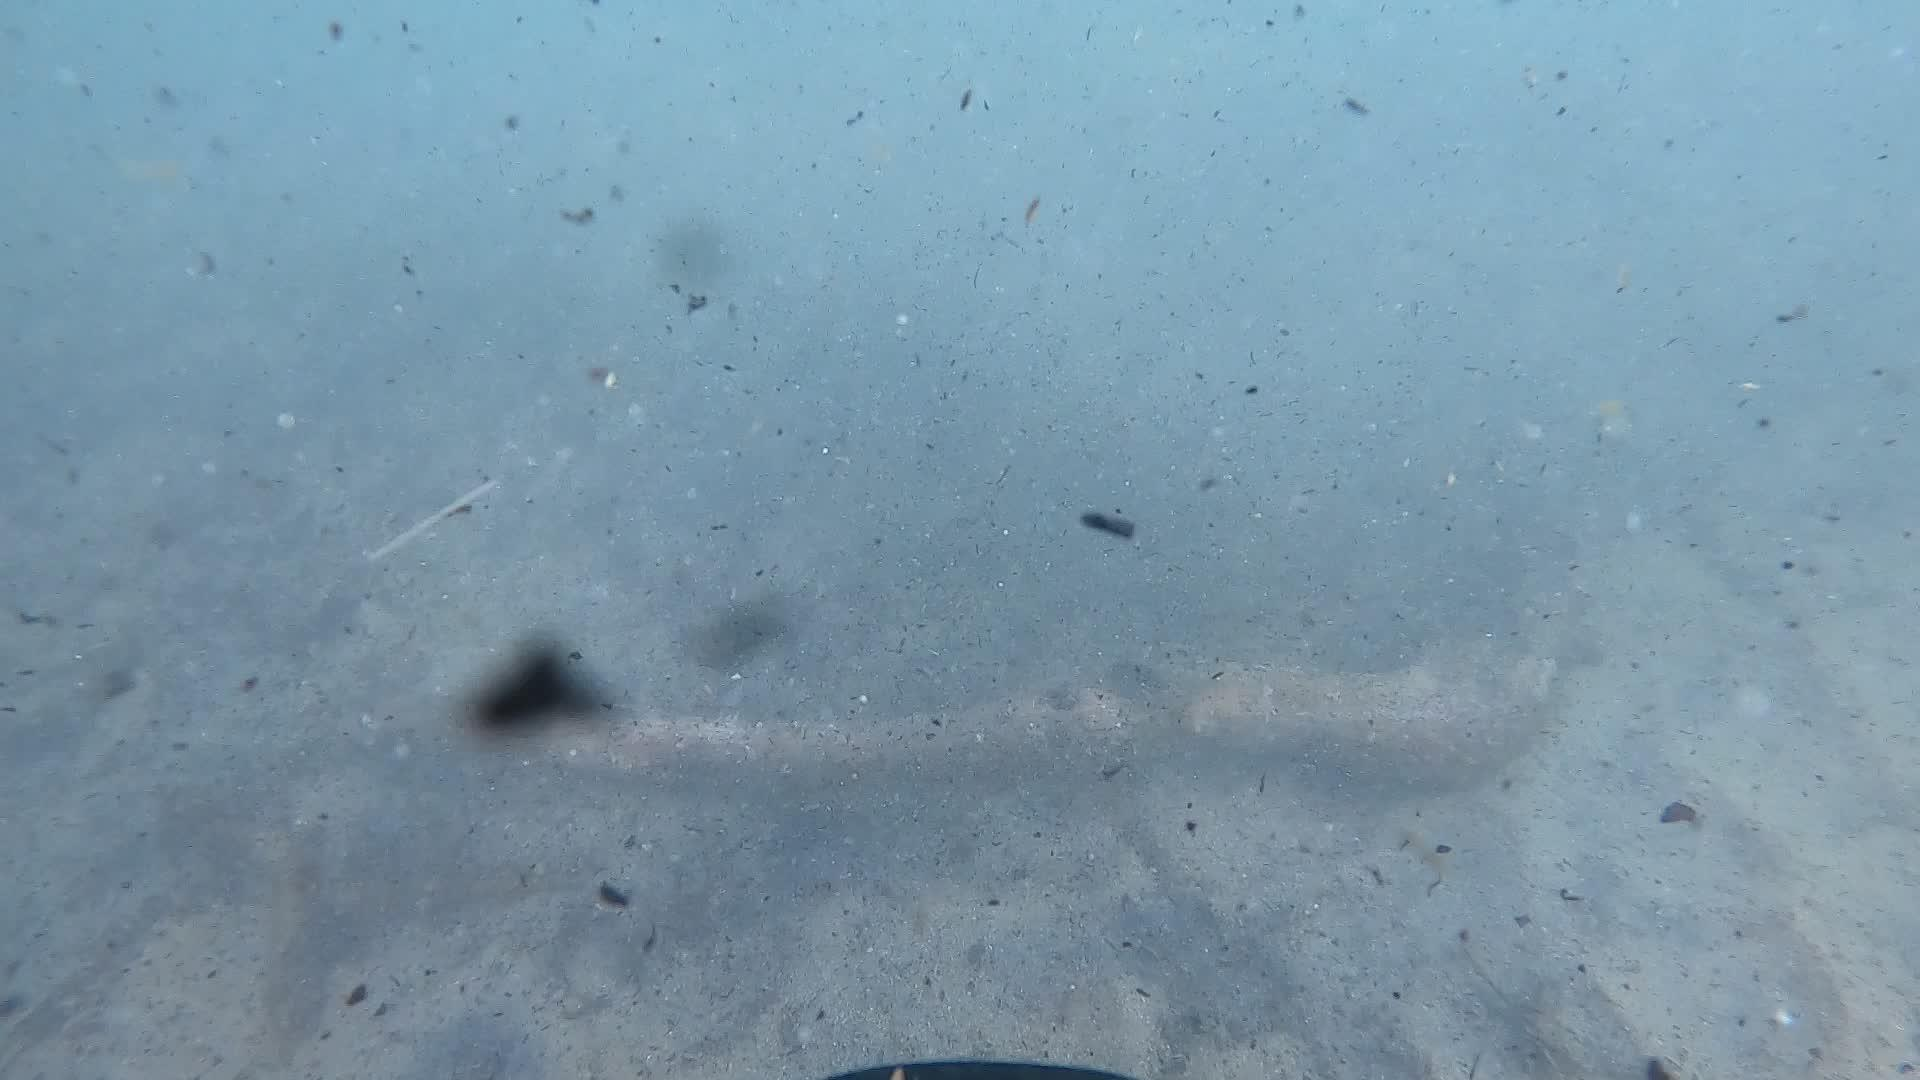wood: (539, 653, 1557, 773)
